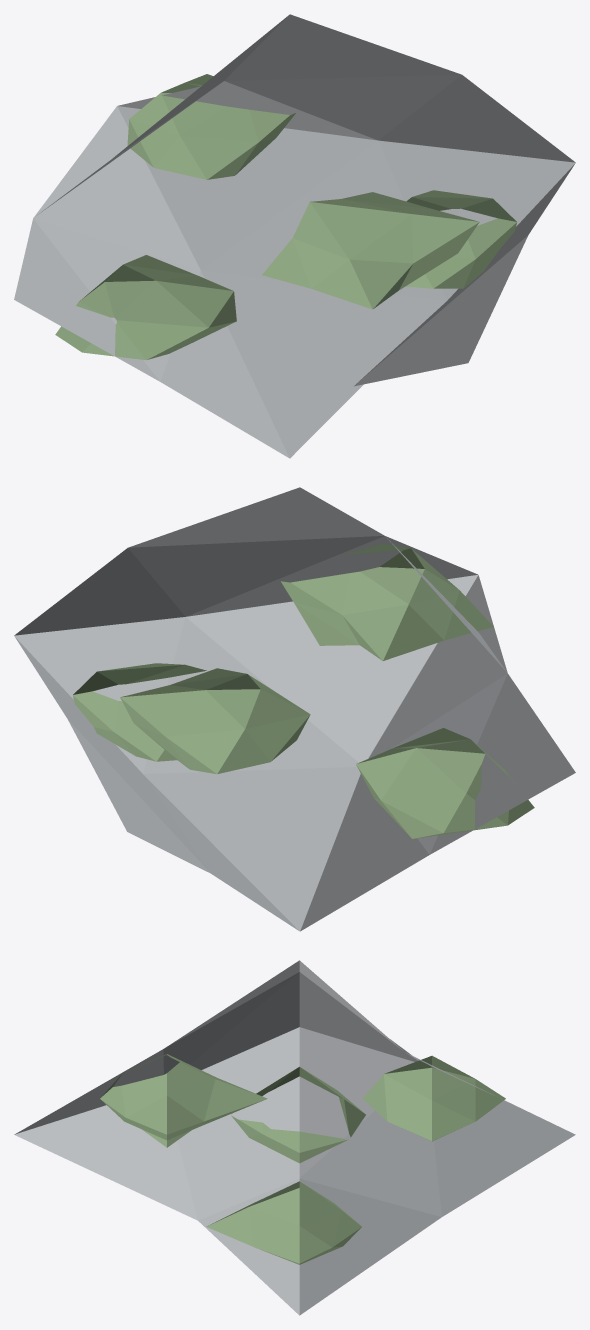
Rendered from moss_rock_v41.glb.
3 views of the same model, one above another, from view 1: azimuth 30°, elevation 25°; view 2: azimuth 150°, elevation 25°; view 3: azimuth 270°, elevation 25° (orthographic). The views are drawn at different scales.
Parts seen in each view (by area): view 1: lod0; view 2: lod0; view 3: lod0.
Boxes of the visible parts, x1,y1,x2,y2 form: lod0: (14,14,575,458); lod0: (14,487,575,931); lod0: (14,960,575,1315).
Size of what is drawn, in the model's own units: 0.881 by 0.6658 by 0.954.
